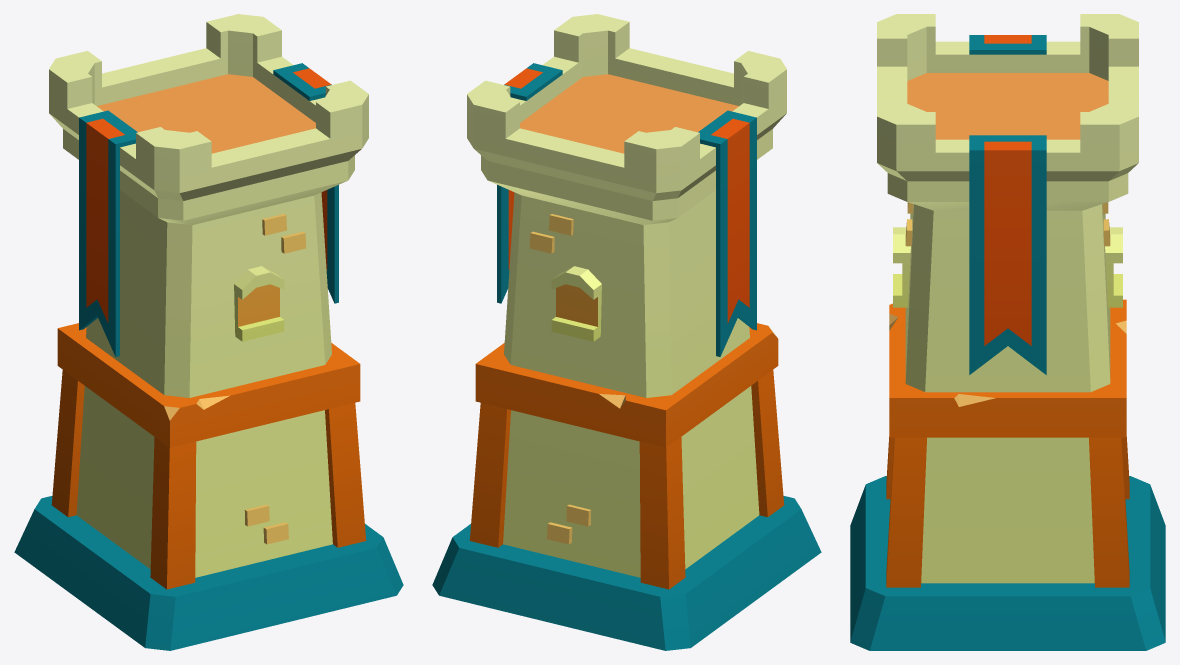
Rendered from Structure_Watch_Tower_01.fbx.
3 renders of one model, left to right at view 1: azimuth 30°, elevation 25°; view 2: azimuth 150°, elevation 25°; view 3: azimuth 270°, elevation 25°, orthographic. The views are drawn at different scales.
Visible parts, largest first — view 1: Structure_Watch_Tower_01; view 2: Structure_Watch_Tower_01; view 3: Structure_Watch_Tower_01.
Part boxes in pixels (box(x1,y1,x2,y2)): Structure_Watch_Tower_01: box(14, 14, 403, 650); Structure_Watch_Tower_01: box(432, 14, 821, 650); Structure_Watch_Tower_01: box(850, 14, 1165, 650).
Bounding box in the file's own units: 1048 × 1886 × 1048.
